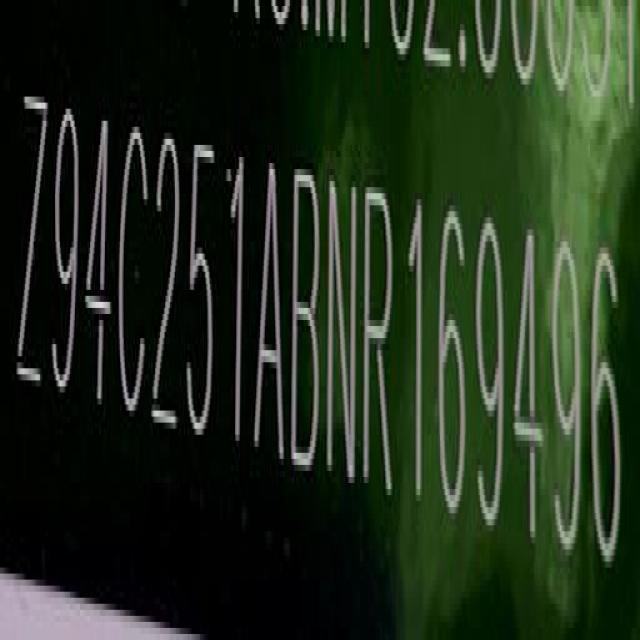1: (410, 193, 427, 512), (228, 142, 245, 458)
2: (154, 122, 183, 439)
4: (513, 223, 546, 549), (88, 107, 114, 416)
5: (190, 128, 221, 448)
6: (592, 241, 624, 573), (437, 200, 467, 522)
9: (550, 236, 582, 567), (475, 214, 505, 536), (50, 99, 79, 408)
A: (256, 156, 287, 465)
B: (294, 163, 324, 480)
C: (119, 119, 149, 426)
N: (328, 170, 360, 488)
R: (364, 180, 397, 496)
Z: (18, 86, 46, 402)
